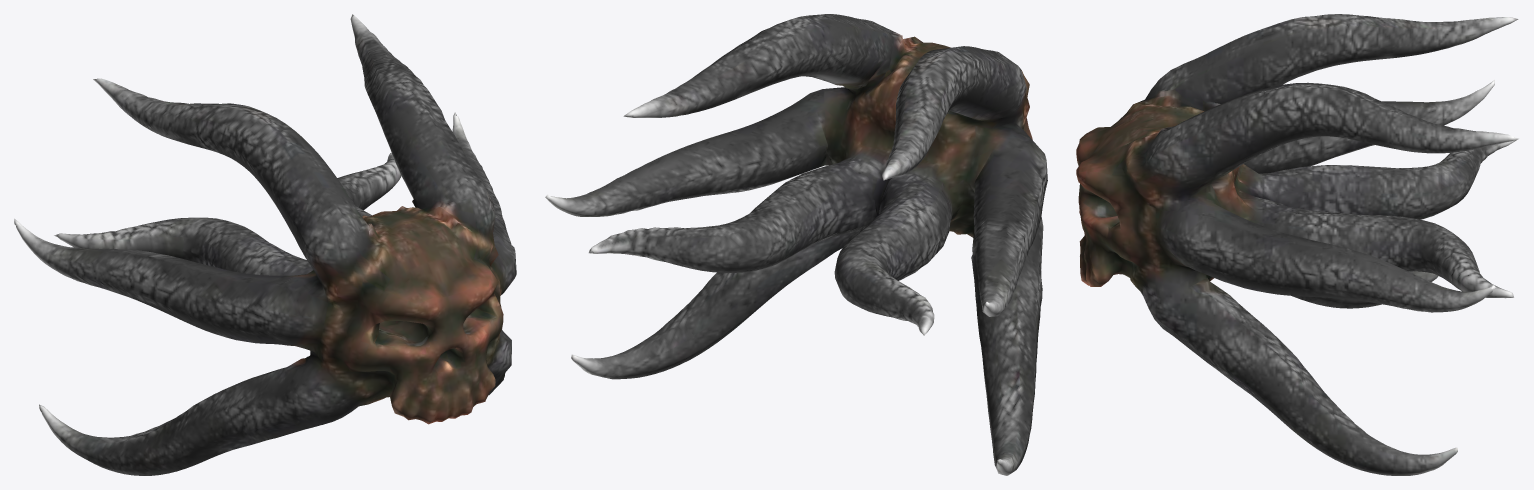
Rendered from Skull.glb.
3 renders of one model, left to right at view 1: azimuth 30°, elevation 25°; view 2: azimuth 150°, elevation 25°; view 3: azimuth 270°, elevation 25°, orthographic. The views are drawn at different scales.
Parts seen in each view (by area): view 1: Volume4; view 2: Volume4; view 3: Volume4.
Boxes of the visible parts, <box> form: Volume4: <box>14,14,516,475</box>; Volume4: <box>545,14,1047,475</box>; Volume4: <box>1076,14,1518,475</box>.
Bounding box in the file's own units: 0.3945 × 0.3 × 0.3591.
1 material, 1 textured.
